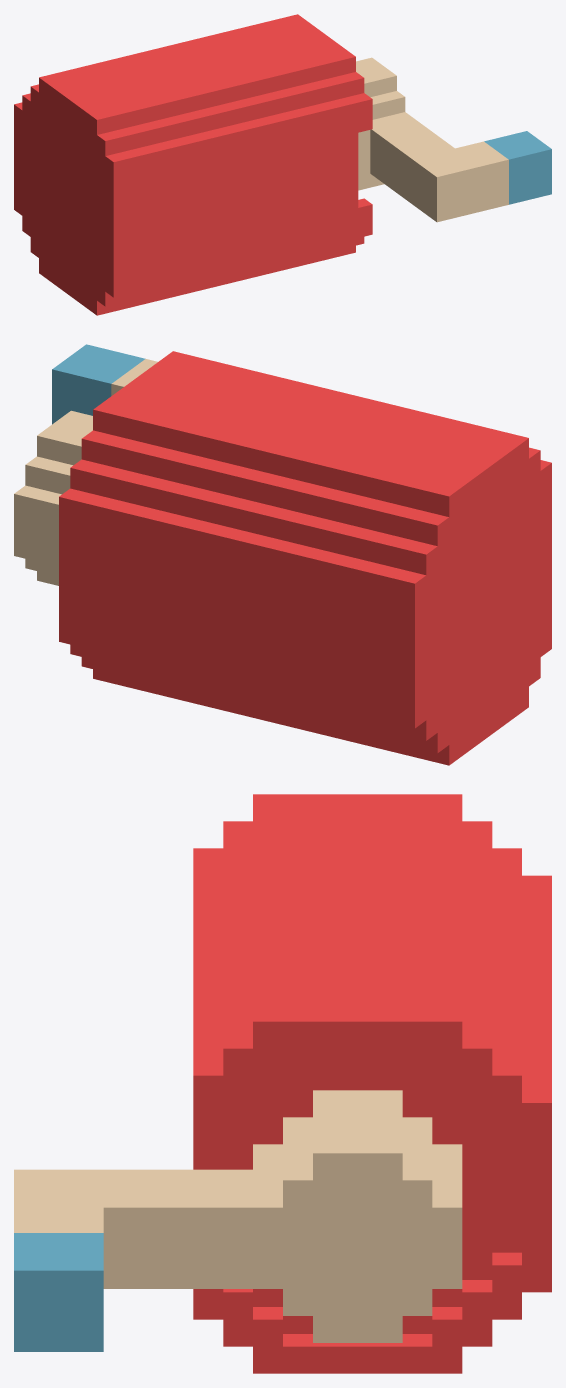
The model's file is Fishing_Rod_Handler.vox.obj.
3 renders of one model, top to bottom at view 1: azimuth 30°, elevation 25°; view 2: azimuth 150°, elevation 25°; view 3: azimuth 270°, elevation 25°, orthographic. The views are drawn at different scales.
Bounding box in the file's own units: 2.7 × 1.3 × 1.8.
